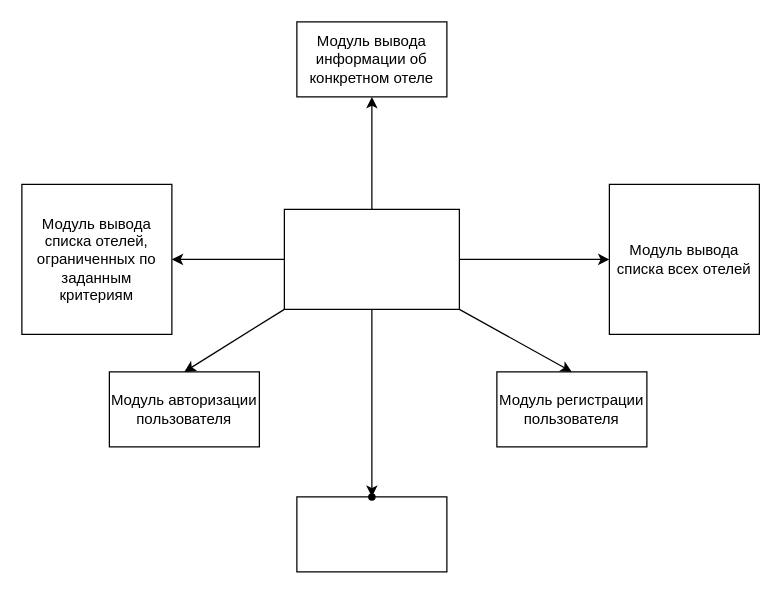
The diagram is 781 pixels wide and 594 high, and some of its shapes have lost their labels. Each missing label, with the box of its shape:
Модуль взаимодействия с интерфейсом: (283, 208, 459, 309)
Модуль поискового панели: (296, 496, 447, 572)
